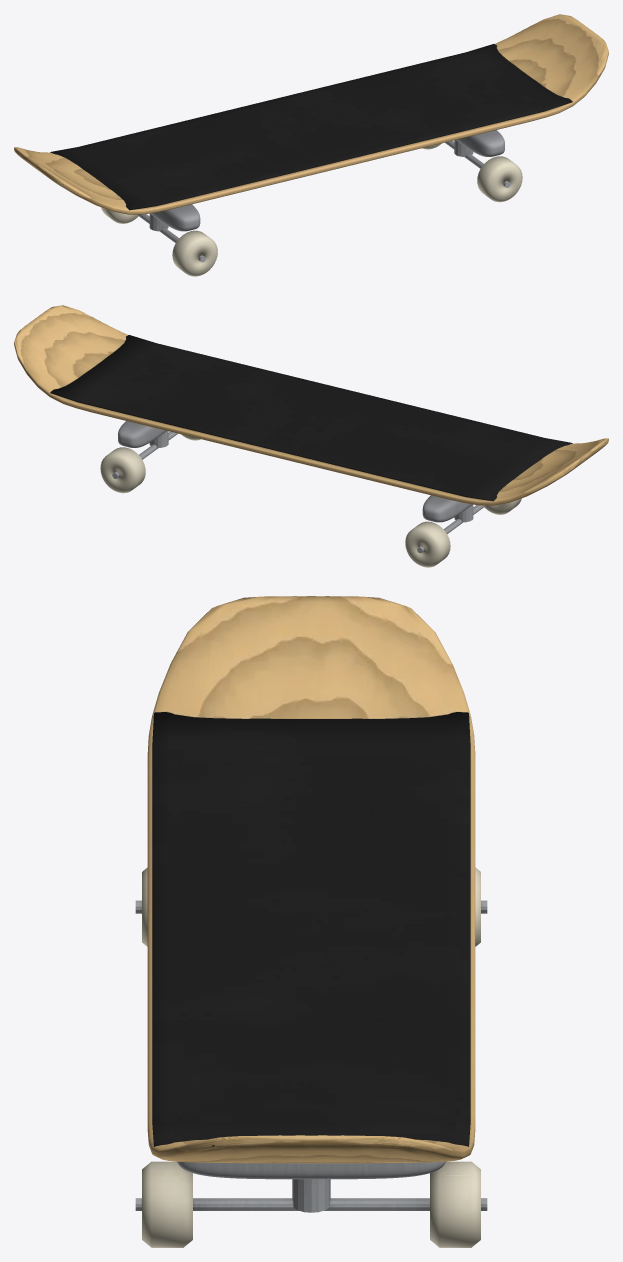
Rendered from maple.glb.
3 renders of one model, top to bottom at view 1: azimuth 30°, elevation 25°; view 2: azimuth 150°, elevation 25°; view 3: azimuth 270°, elevation 25°, orthographic. The views are drawn at different scales.
Parts seen in each view (by area): view 1: griptape, deck_maple, urethane, truck_alu; view 2: griptape, deck_maple, urethane, truck_alu; view 3: griptape, deck_maple, urethane, truck_alu.
Part boxes in pixels (left/top/right/bottom): griptape: left=50, top=44, right=572, bottom=210; deck_maple: left=14, top=14, right=608, bottom=214; urethane: left=101, top=143, right=522, bottom=276; truck_alu: left=137, top=130, right=510, bottom=262; griptape: left=50, top=335, right=572, bottom=501; deck_maple: left=14, top=305, right=608, bottom=505; urethane: left=100, top=434, right=521, bottom=567; truck_alu: left=112, top=421, right=485, bottom=553; griptape: left=152, top=712, right=470, bottom=1146; deck_maple: left=147, top=596, right=475, bottom=1163; urethane: left=142, top=867, right=480, bottom=1247; truck_alu: left=135, top=900, right=487, bottom=1212.
Bounding box in the file's own units: 0.8002 × 0.1581 × 0.22.
Materials: 4 (4 with a texture image).
